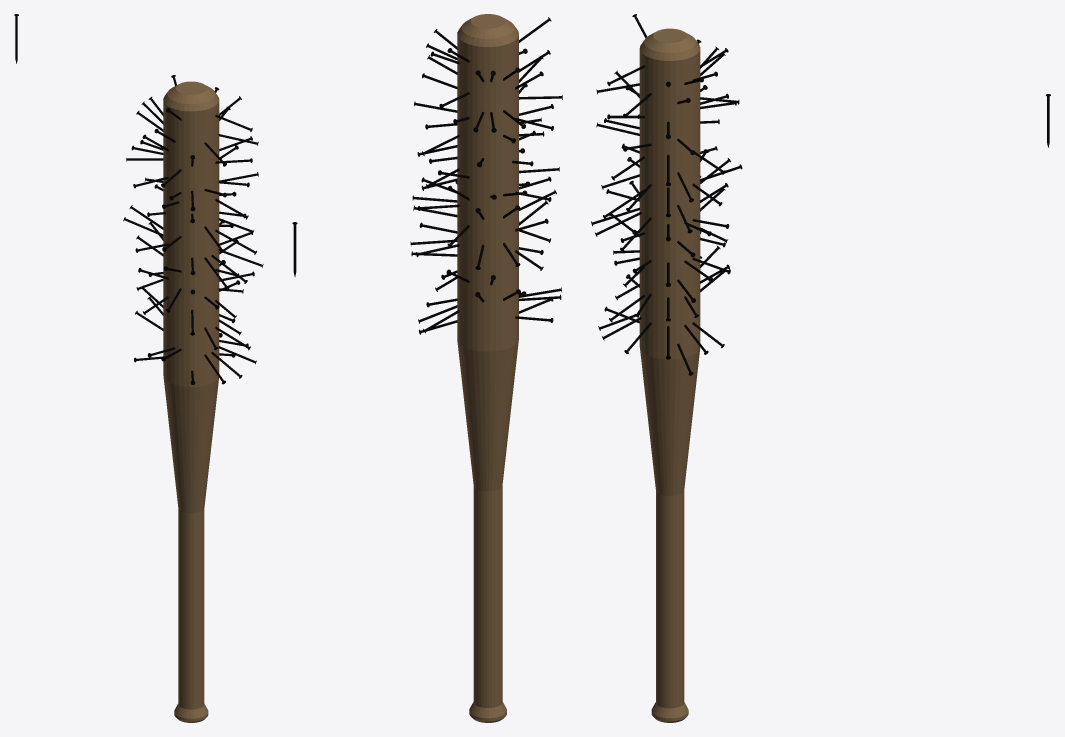
The model's file is batNails.fbx.
The picture shows the model from 3 angles, left to right: view 1: azimuth 30°, elevation 25°; view 2: azimuth 150°, elevation 25°; view 3: azimuth 270°, elevation 25°; orthographic projection. The views are drawn at different scales.
Parts seen in each view (by area): view 1: bat; view 2: bat; view 3: bat.
Part boxes in pixels (x1,y1,x2,y2): bat: (163, 81, 219, 722); bat: (457, 14, 518, 722); bat: (639, 28, 700, 722).
Size of the model in its own units: 491 by 2479 by 1516.
